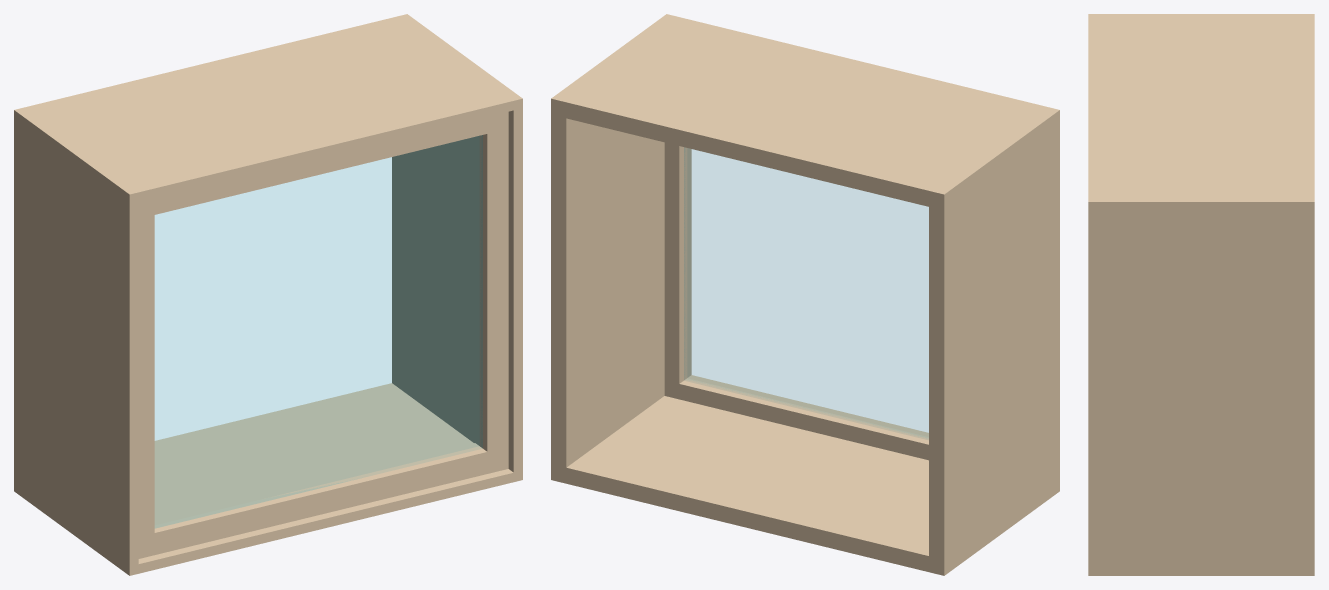
Rendered from 1hOSvn6df7F8_7GcBWlS4Q.glb.
3 views of the same model, side by side, from view 1: azimuth 30°, elevation 25°; view 2: azimuth 150°, elevation 25°; view 3: azimuth 270°, elevation 25° (orthographic). The views are drawn at different scales.
Visible parts, largest first — view 1: 1hOSvn6df7F8_7GcBWlS4Q; view 2: 1hOSvn6df7F8_7GcBWlS4Q; view 3: 1hOSvn6df7F8_7GcBWlS4Q.
Part boxes in pixels (x1,y1,x2,y2): 1hOSvn6df7F8_7GcBWlS4Q: (14, 14, 522, 575); 1hOSvn6df7F8_7GcBWlS4Q: (551, 14, 1059, 575); 1hOSvn6df7F8_7GcBWlS4Q: (1088, 14, 1314, 575).
Bounding box in the file's own units: 0.819 × 0.759 × 0.417.
